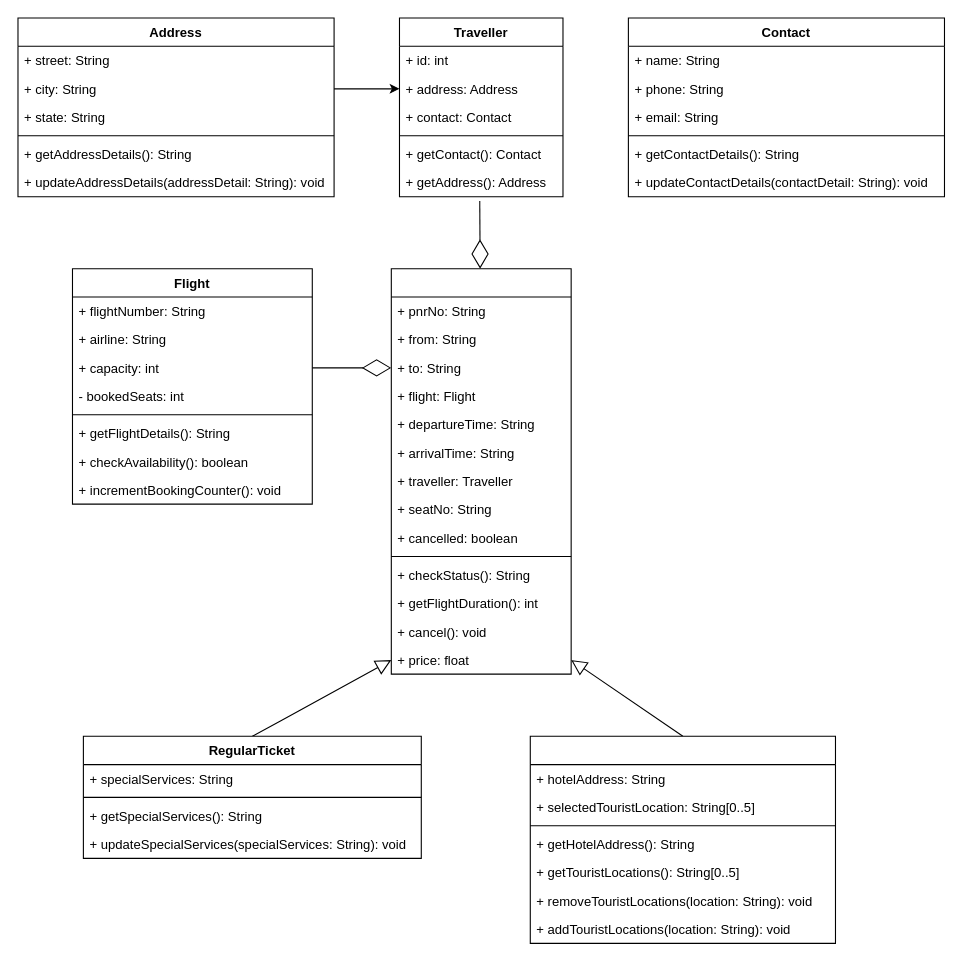
This 962x961 diagram has some shape labels left out. The shapes that lost their labels are listed below. From the top down, each one's box as (x1, y1, x2, y2) in pixels, then its label:
(390, 268, 571, 674): Ticket
(529, 735, 835, 943): TouristTicket
